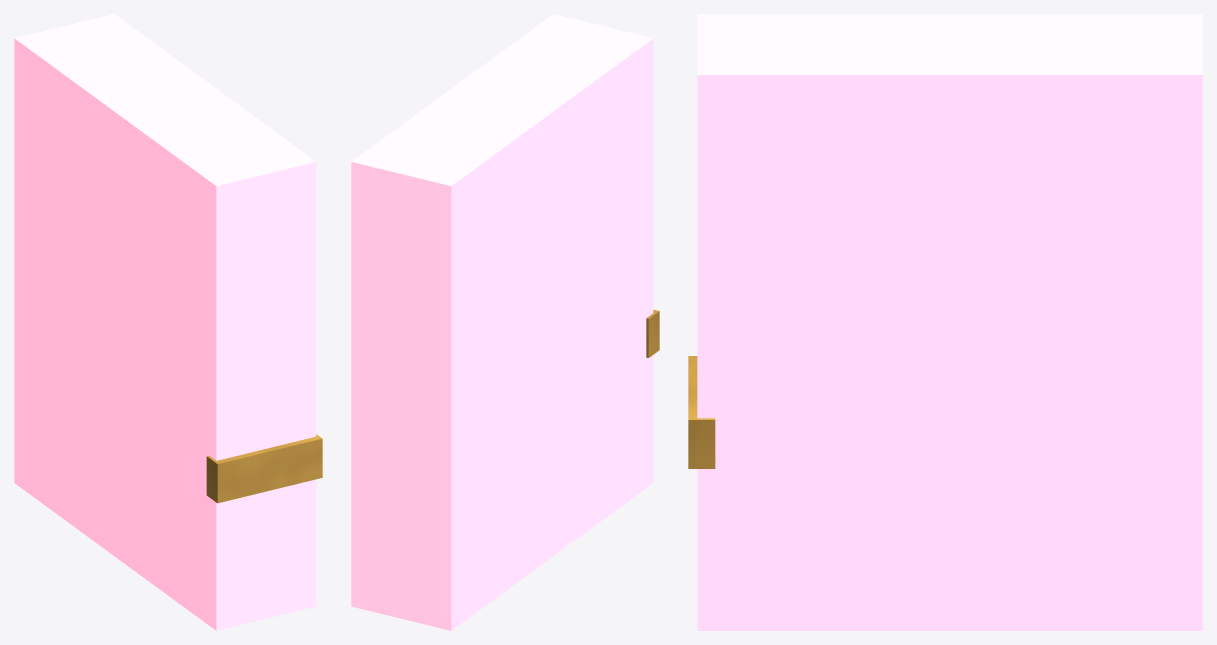
File: dun_booktab.glb
3 views of the same model, side by side, from view 1: azimuth 30°, elevation 25°; view 2: azimuth 150°, elevation 25°; view 3: azimuth 270°, elevation 25° (orthographic). The views are drawn at different scales.
Parts seen in each view (by area): view 1: dun_booktab_rb_red_0, dun_booktab_gold_0; view 2: dun_booktab_rb_red_0, dun_booktab_gold_0; view 3: dun_booktab_rb_red_0, dun_booktab_gold_0.
Part boxes in pixels (x1,y1,x2,y2): dun_booktab_rb_red_0: (14,14,316,630); dun_booktab_gold_0: (206,434,322,503); dun_booktab_rb_red_0: (351,14,653,630); dun_booktab_gold_0: (646,309,659,357); dun_booktab_rb_red_0: (697,14,1202,630); dun_booktab_gold_0: (688,356,715,468).
Size of the model in its own units: 0.084 by 0.34 by 0.285.
2 materials, 1 textured.
